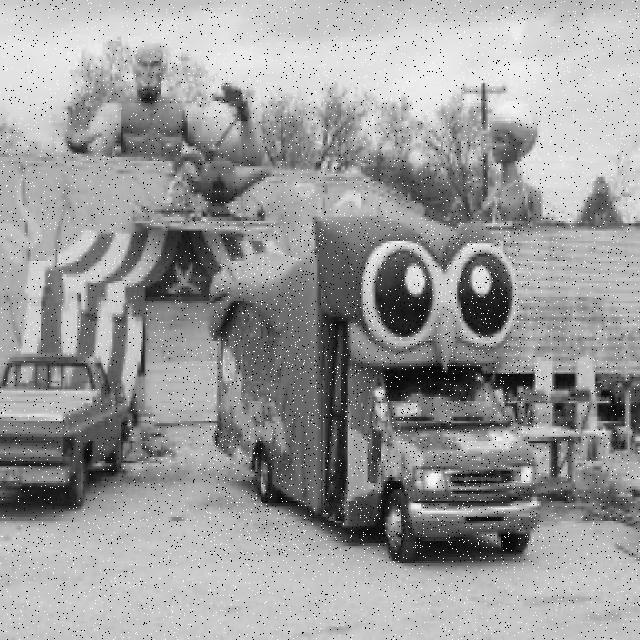Bus- Small: (207, 222, 540, 563)
